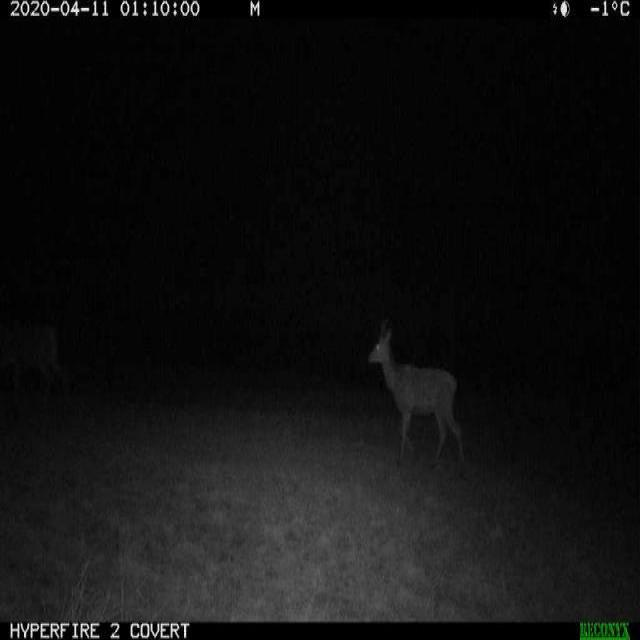deer: (358, 309, 471, 486), (17, 277, 108, 432)
